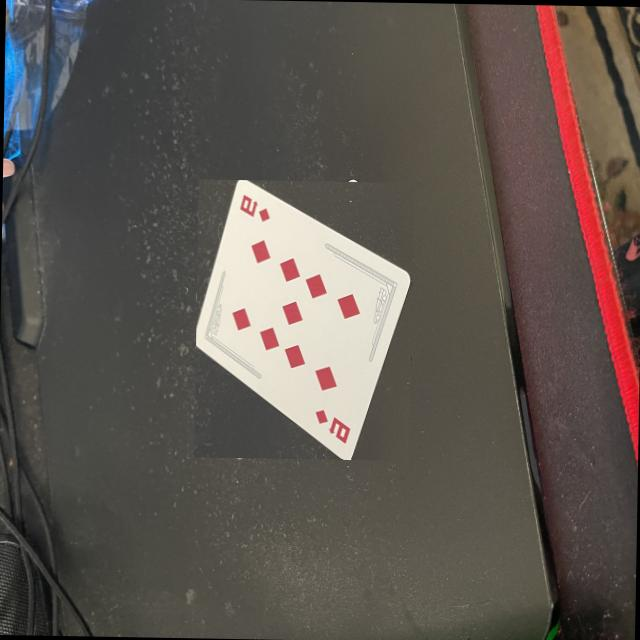9 of diamonds: (196, 179, 411, 457)
